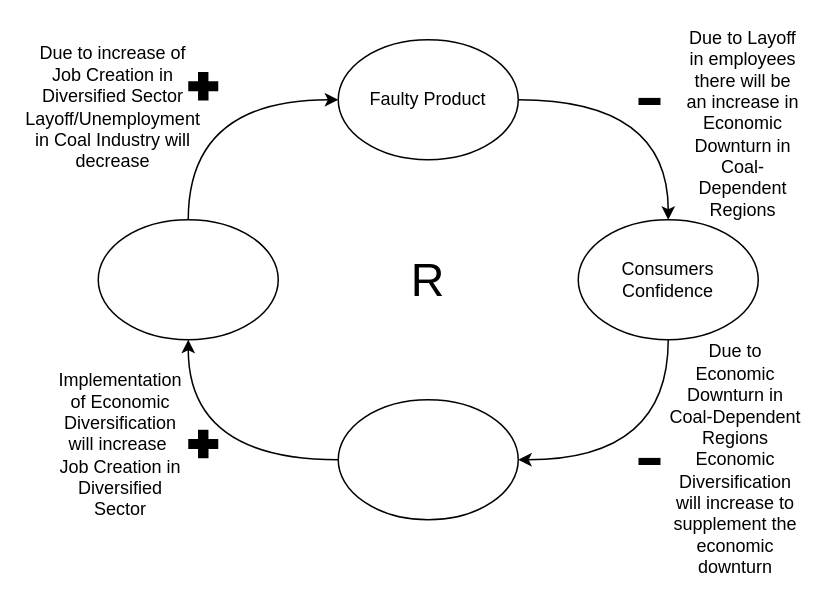
The diagram is 830 pixels wide and 605 high, and some of its shapes have lost their labels. The shapes that lost their labels are listed below. From the top down, each one's centre as x and y in pixels, then its label:
the point at 187,279: Operational Challenges
the point at 427,459: Financial and Reputation
